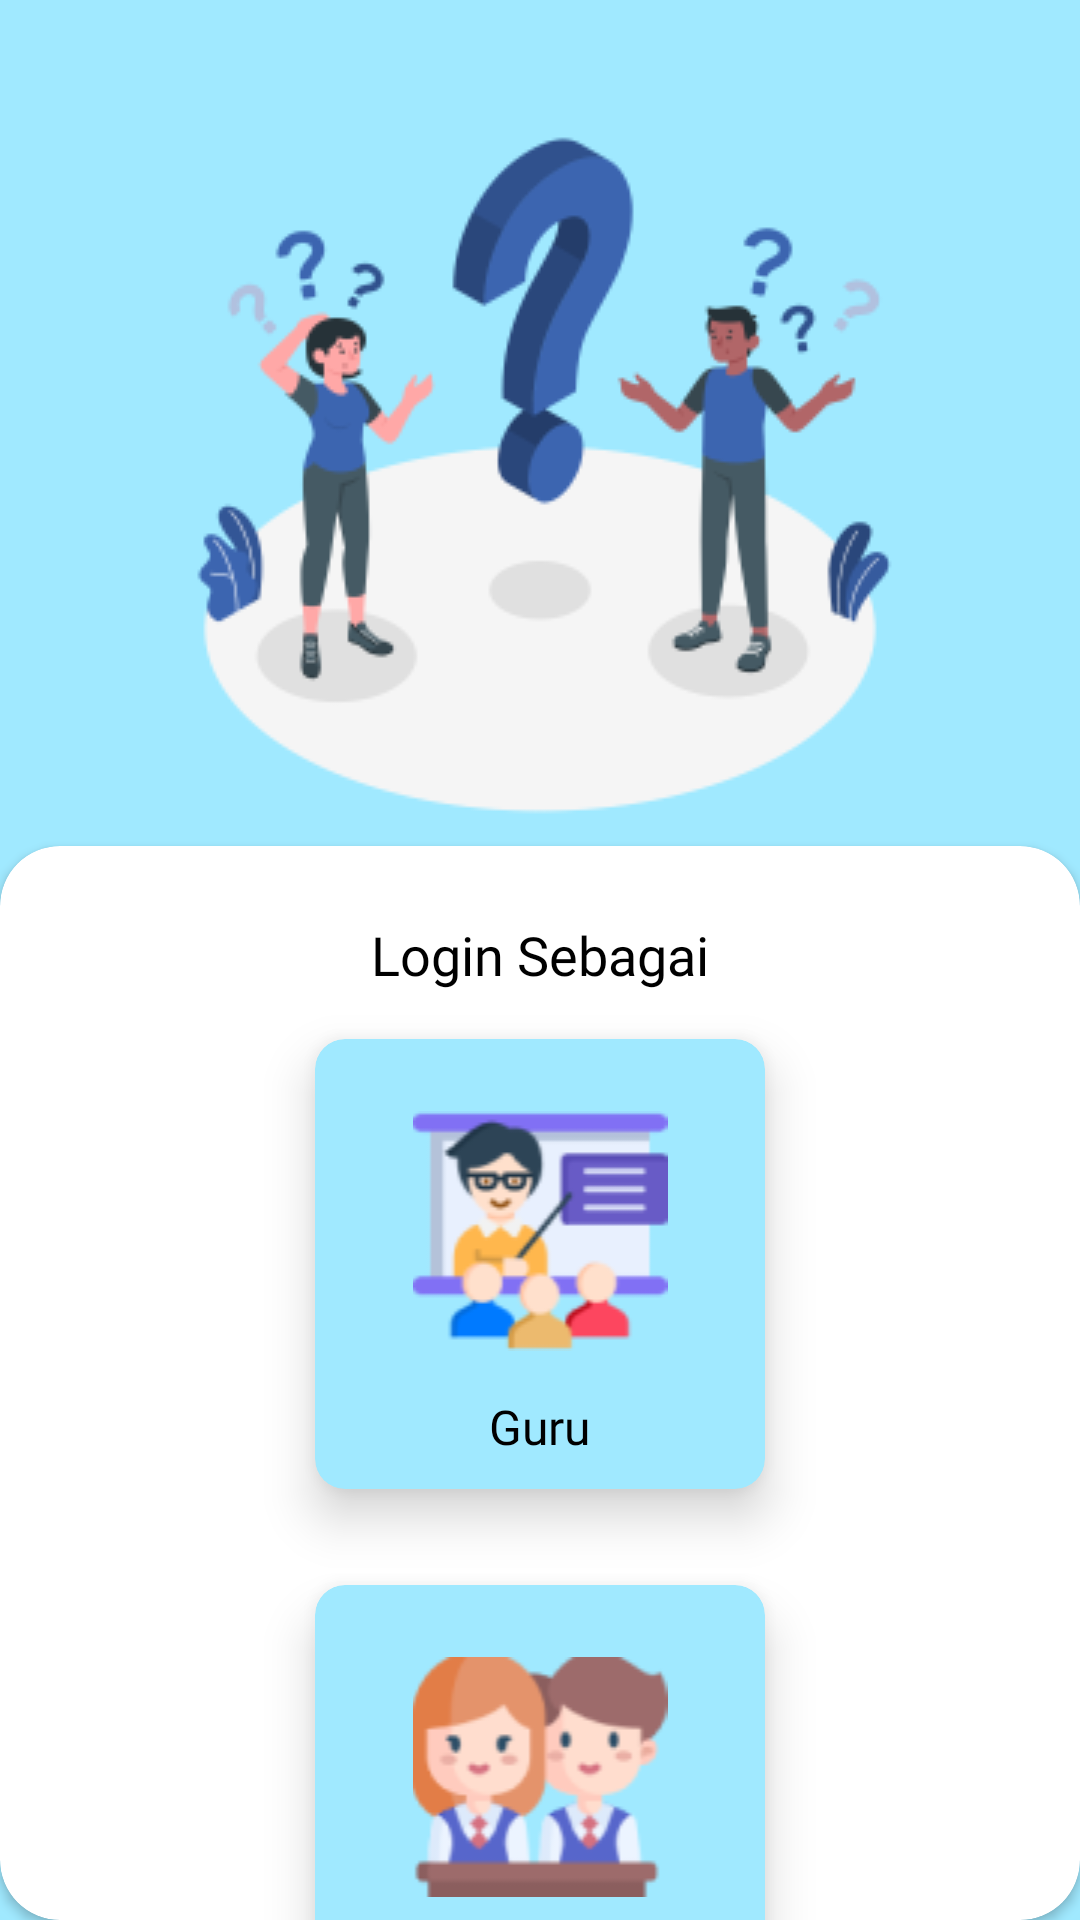

Screen size 1080px×1920px. Icon name, then its box in pixels as bbox=[x1, y1, x2, y2]:
murid: bbox=[413, 1657, 668, 1897]
